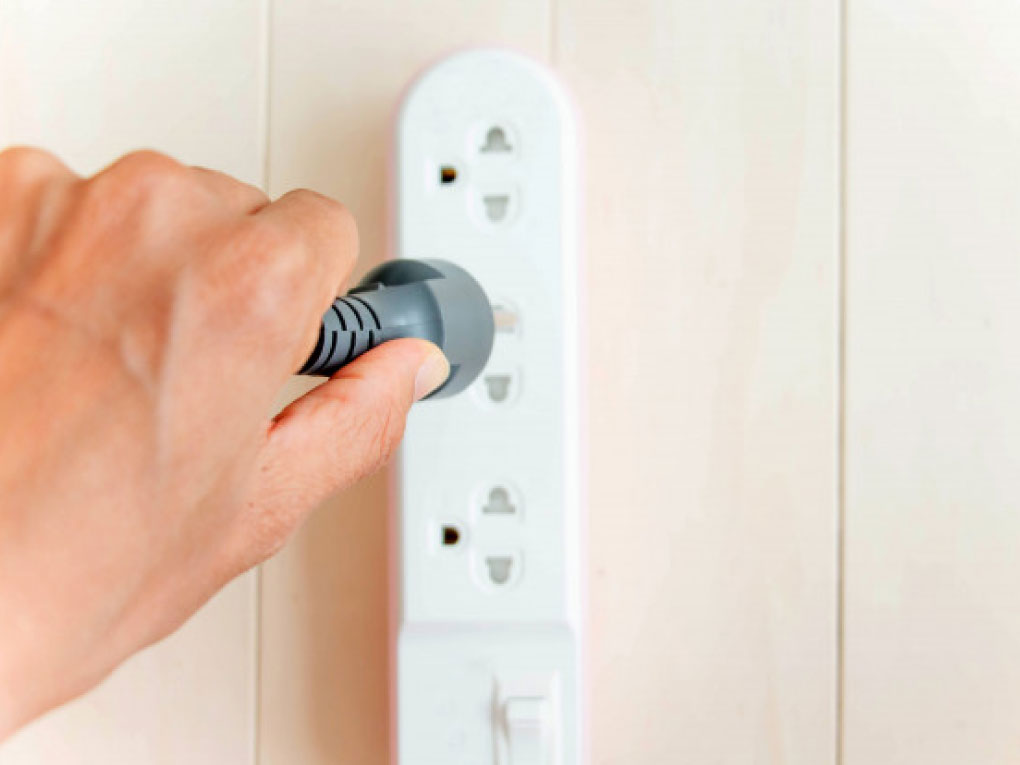Three_eye_plug: (366, 30, 600, 765)
